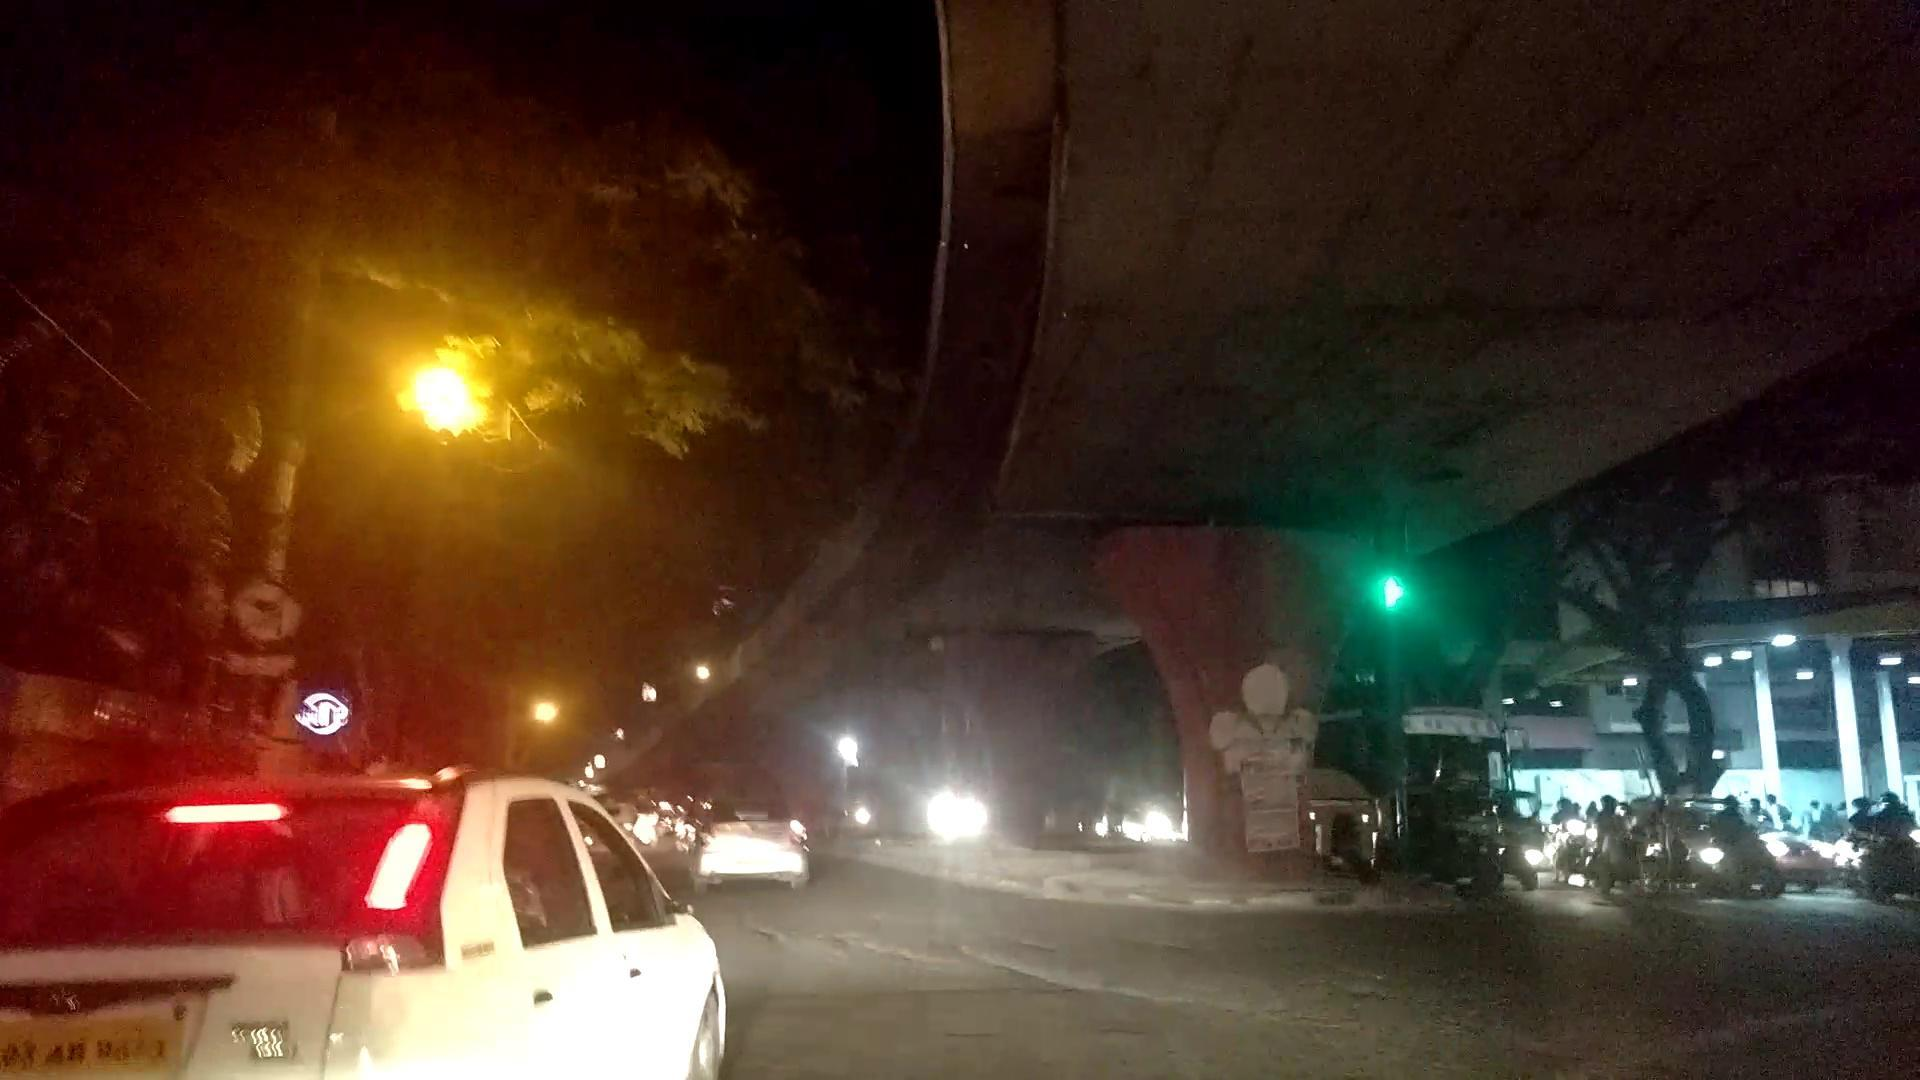on: (240, 82, 943, 659)
